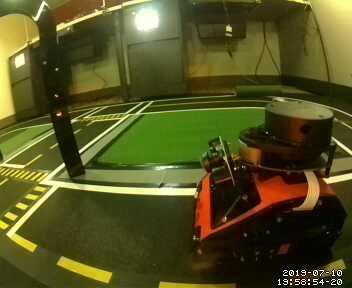pheeno: (193, 101, 349, 258)
